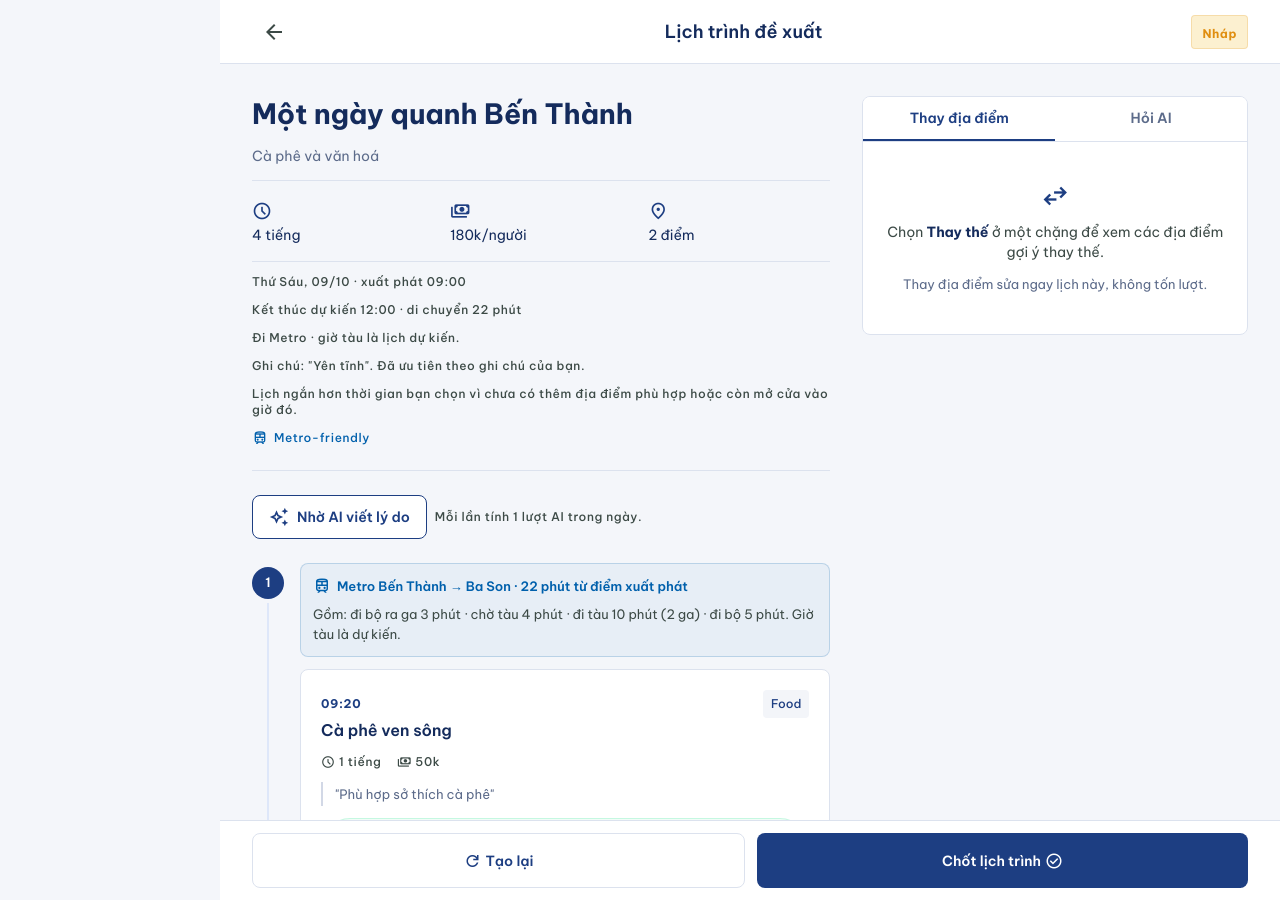
Scenario: USER-A5.2 finalize by plan saved-trip quota › Normal failure retains error and retry without success navigation
Click the button "Chốt lịch trình": [1002, 860] box [757,833,1248,888]
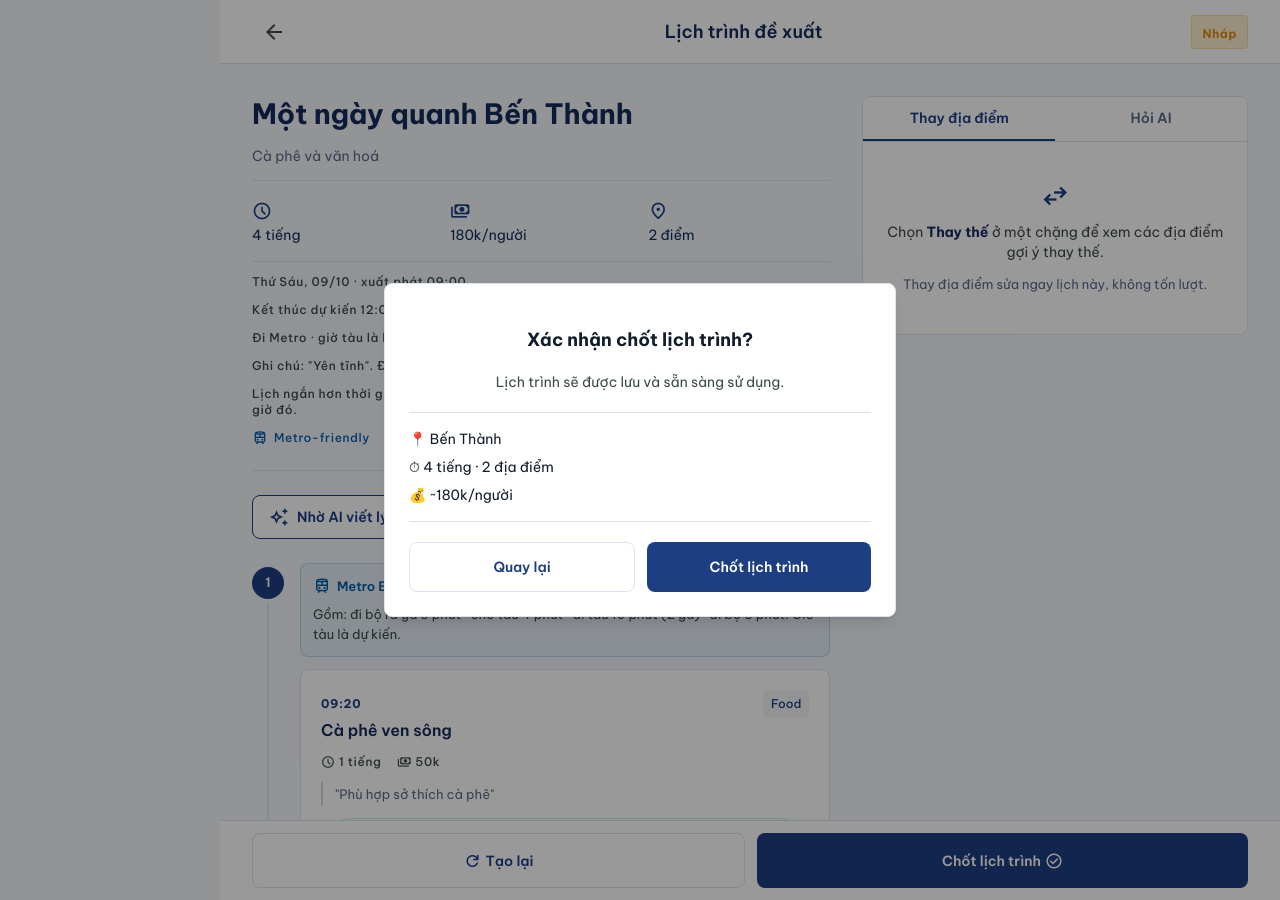
Click the button "Chốt lịch trình": [759, 567] box [647,542,871,592]
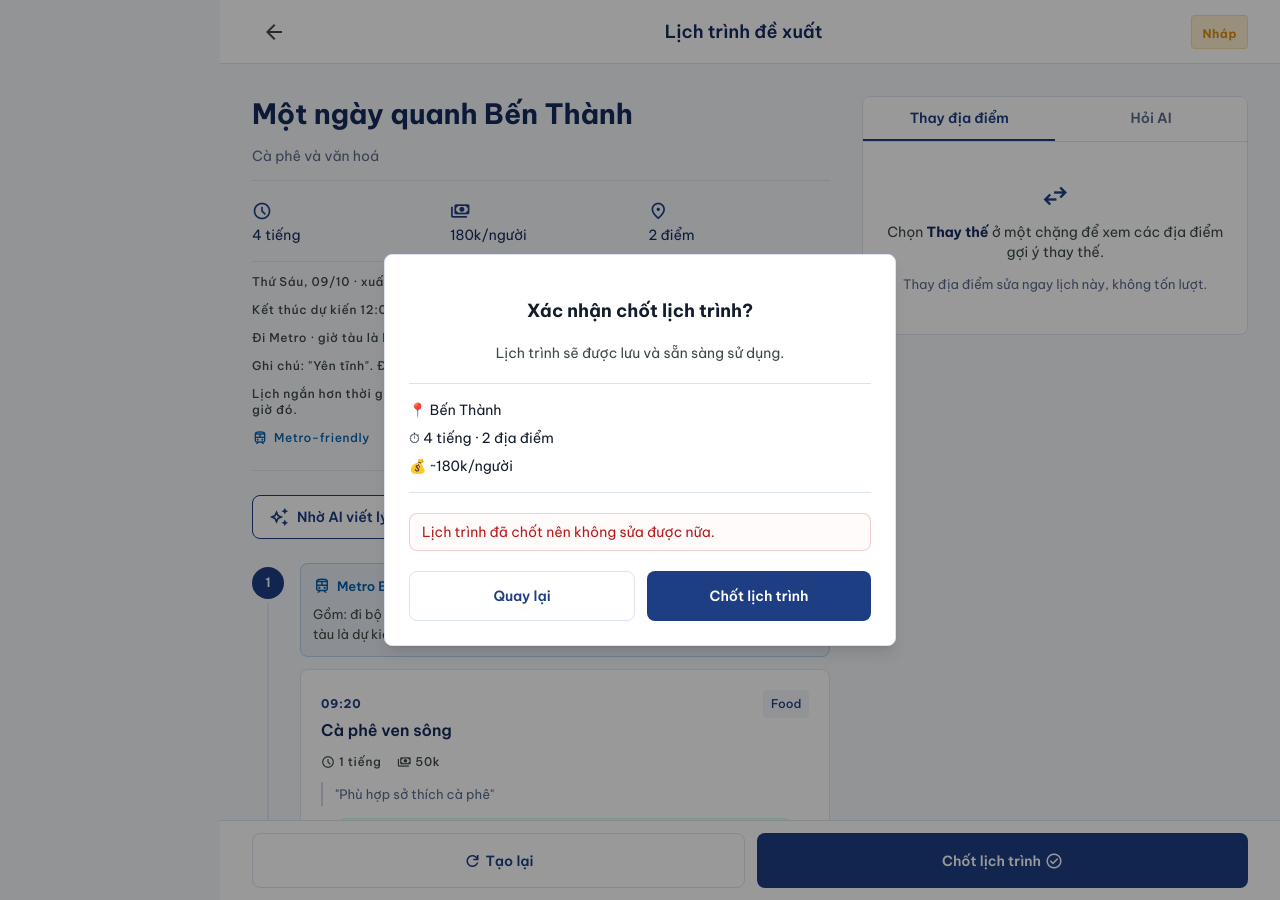
Check: the message shows "Lịch trình đã chốt", box [422,523,715,541]
